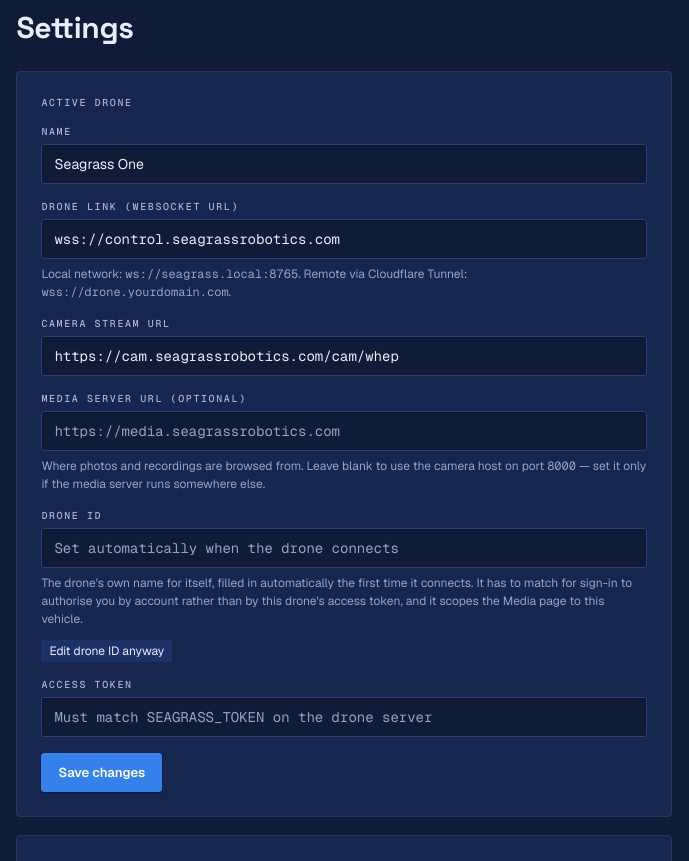
Test case: SettingsPage — save feedback › confirms only on a real success
The image size is (689, 861).
Click the button "Save changes". click: (102, 772)
box: [41, 753, 162, 792]
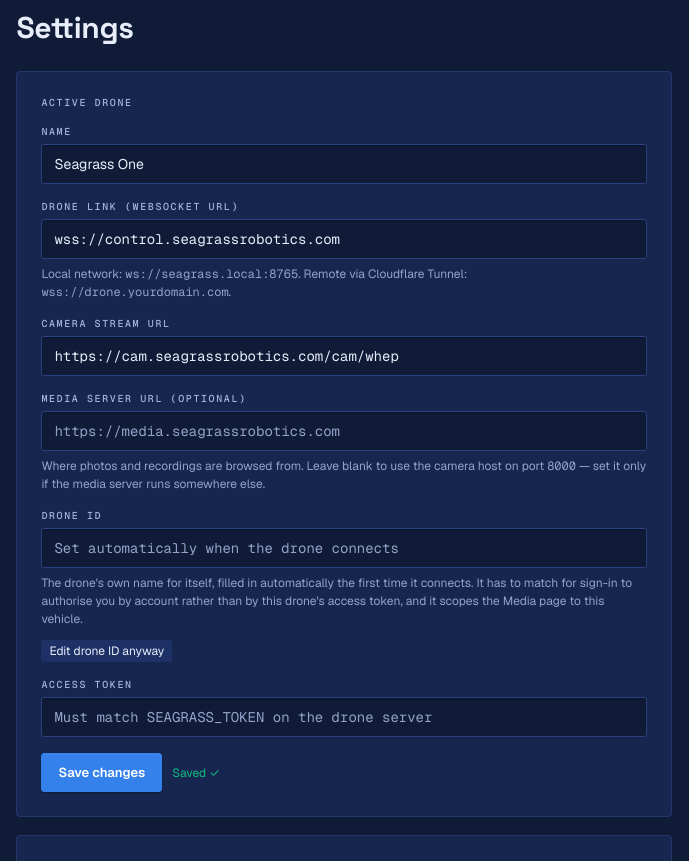
Now the message named "save status" reads "Saved ✓", box [172, 764, 220, 780]
